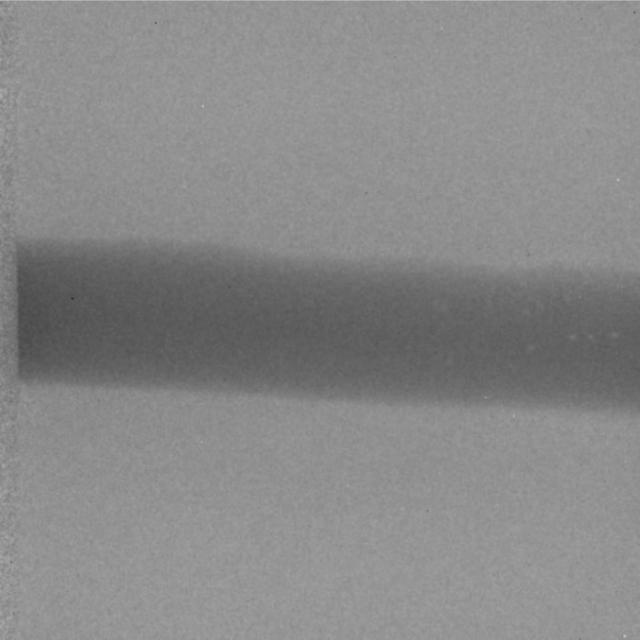air hole: (526, 338, 536, 353), (567, 329, 577, 341), (585, 329, 595, 341), (610, 327, 619, 339)
